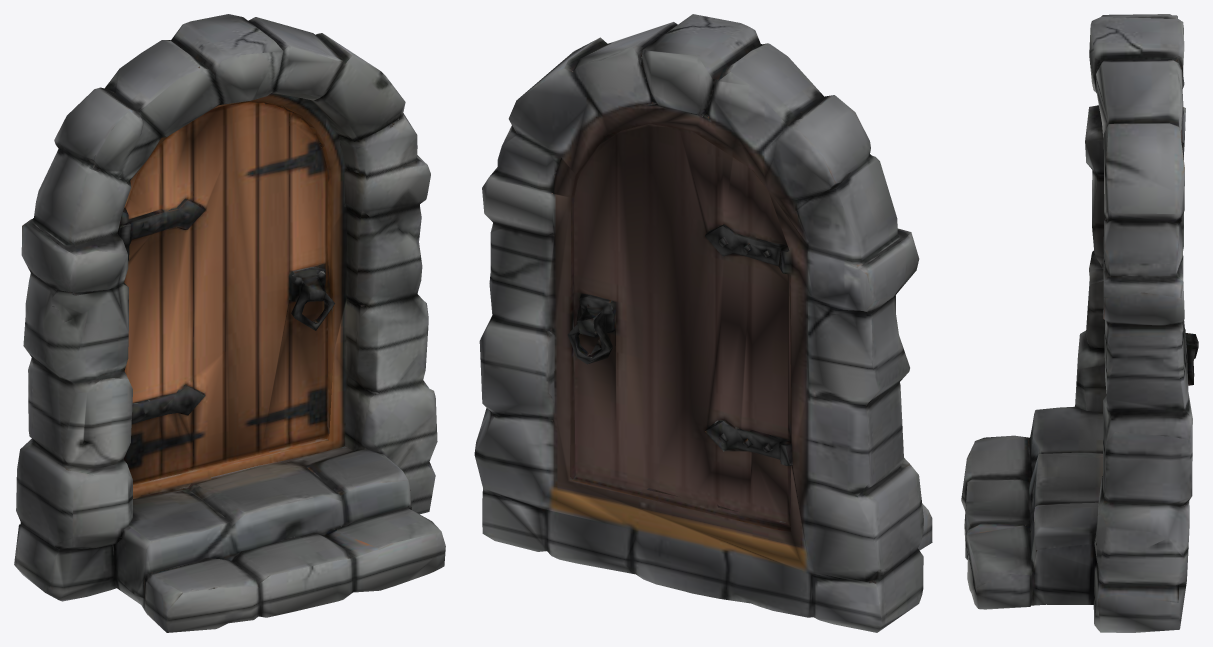
The model's file is door.glb.
3 renders of one model, left to right at view 1: azimuth 30°, elevation 25°; view 2: azimuth 150°, elevation 25°; view 3: azimuth 270°, elevation 25°, orthographic. The views are drawn at different scales.
Size of the model in its own units: 1.52 by 1.91 by 0.7978.
Materials: 1 (1 with a texture image).
